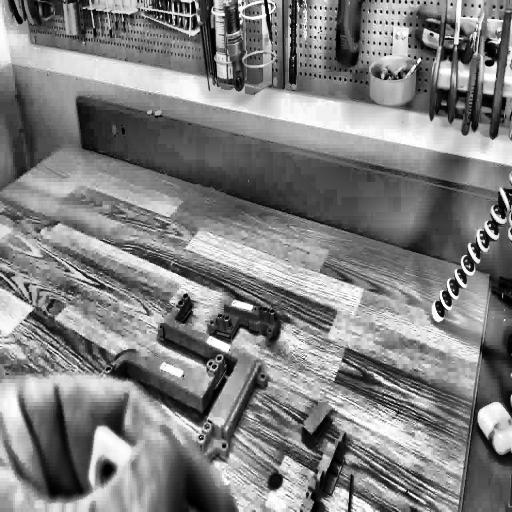busbar: (94, 288, 284, 448)
